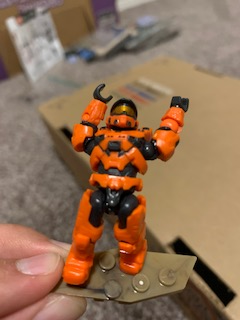spartan: (62, 83, 192, 287)
up: (67, 83, 190, 173)
